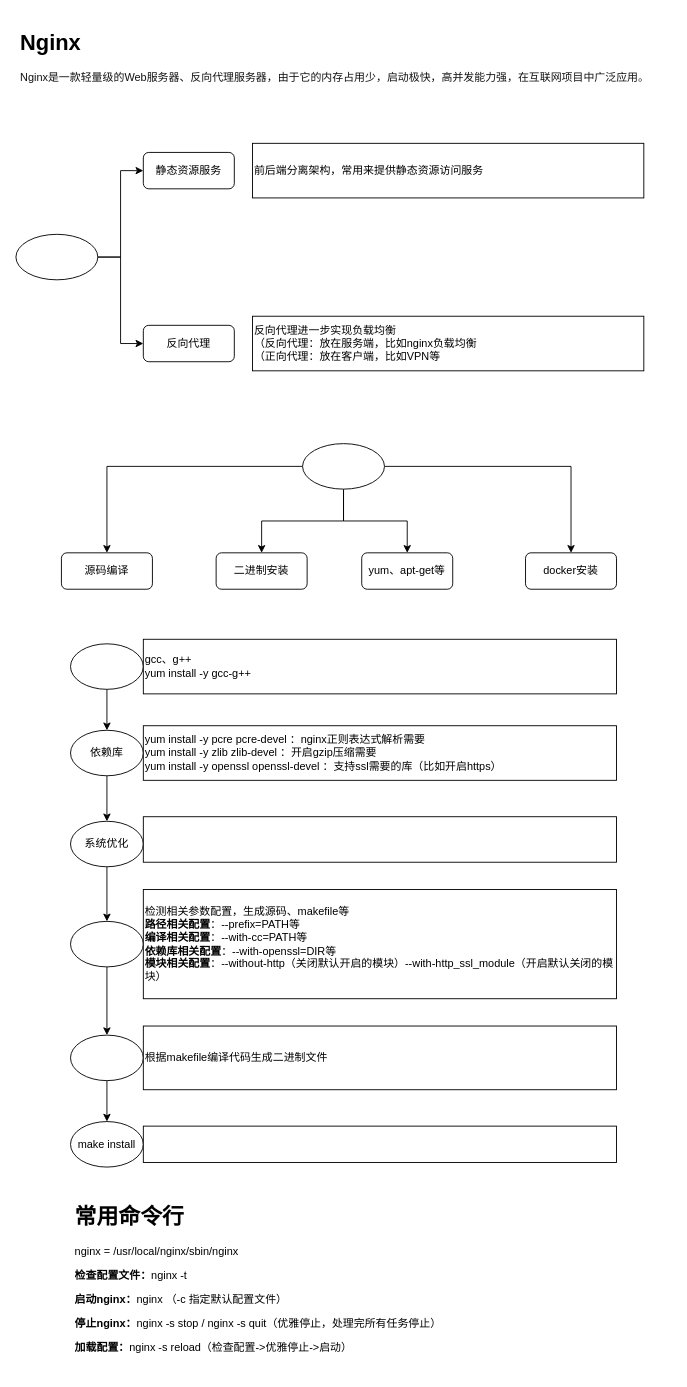
Image size: 687x1387. Some labels were removed from this diagram. Here are the shapes that lost their labels. From the top down, the centre of each, then its label:
the point at 56,256: 两大场景
the point at 343,466: 安装
the point at 106,666: 编译器
the point at 379,839: /etc/sysctl.conf（sysctl -p生效）：运行时配置内核参数
the point at 106,943: ./configure
the point at 106,1057: make
the point at 379,1144: 根据configure中配置的参数，创建目录，拷贝可执行文件等
